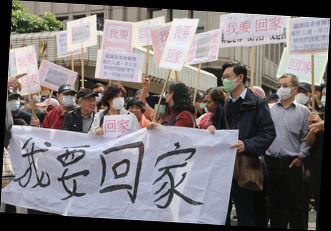with_mask: (275, 81, 295, 101), (220, 73, 238, 93), (110, 93, 126, 111), (295, 88, 311, 106), (6, 96, 21, 114), (60, 92, 76, 108), (153, 100, 168, 117), (28, 90, 43, 106), (91, 89, 106, 104), (163, 91, 173, 110), (320, 91, 327, 107), (198, 99, 207, 110)
without_mask: (81, 96, 98, 114), (128, 104, 143, 121), (204, 99, 216, 115)
